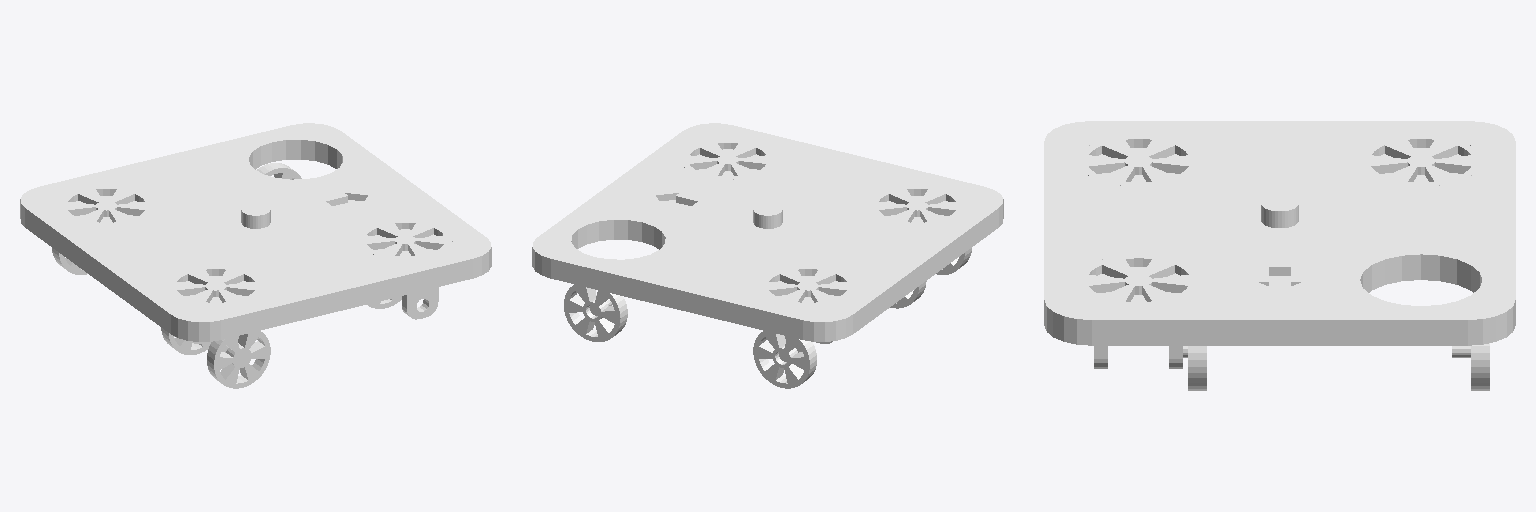
robot.urdf — robot_ehang_2:
<?xml version="1.0" encoding="utf-8"?>
<!-- This URDF was automatically created by SolidWorks to URDF Exporter! Originally created by [author] ([email redacted]) 
     Commit Version: 1.5.1-0-g916b5db  Build Version: 1.5.7152.31018
     For more information, please see http://wiki.ros.org/sw_urdf_exporter -->
<robot
  name="robot_ehang_2">
  <link
    name="base_link">
    <inertial>
      <origin
        xyz="0.000740931861202631 -4.48305072513504E-18 -0.0150251748350002"
        rpy="0 0 0" />
      <mass
        value="5.7905552345472" />
      <inertia
        ixx="0.115480968122851"
        ixy="-2.87284031780095E-17"
        ixz="2.13440240516794E-05"
        iyy="0.115166752909652"
        iyz="1.01618034046436E-19"
        izz="0.229780116928925" />
    </inertial>
    <visual>
      <origin
        xyz="0 0 0"
        rpy="0 0 0" />
      <geometry>
        <mesh
          filename="package://robot_ehang_2/meshes/base_link.STL" />
      </geometry>
      <material
        name="">
        <color
          rgba="1 1 1 1" />
      </material>
    </visual>
    <collision>
      <origin
        xyz="0 0 0"
        rpy="0 0 0" />
      <geometry>
        <mesh
          filename="package://robot_ehang_2/meshes/base_link.STL" />
      </geometry>
    </collision>
  </link>
  <link
    name="turntable_lf_Link">
    <inertial>
      <origin
        xyz="2.77555756156289E-17 2.77555756156289E-17 -0.0254858770205358"
        rpy="0 0 0" />
      <mass
        value="0.444639349653019" />
      <inertia
        ixx="0.00073928927023106"
        ixy="7.61006163548786E-20"
        ixz="1.44058079470147E-19"
        iyy="0.000612309735948238"
        iyz="4.61906307609281E-20"
        izz="0.000935490336925797" />
    </inertial>
    <visual>
      <origin
        xyz="0 0 0"
        rpy="0 0 0" />
      <geometry>
        <mesh
          filename="package://robot_ehang_2/meshes/turntable_lf_Link.STL" />
      </geometry>
      <material
        name="">
        <color
          rgba="1 1 1 1" />
      </material>
    </visual>
    <collision>
      <origin
        xyz="0 0 0"
        rpy="0 0 0" />
      <geometry>
        <mesh
          filename="package://robot_ehang_2/meshes/turntable_lf_Link.STL" />
      </geometry>
    </collision>
  </link>
  <joint
    name="turntable_lf_Joint"
    type="continuous">
    <origin
      xyz="0.151108606892245 0.15 0"
      rpy="0 0 0" />
    <parent
      link="base_link" />
    <child
      link="turntable_lf_Link" />
    <axis
      xyz="0 0 -1" />
  </joint>
  <link
    name="lf_1_Link">
    <inertial>
      <origin
        xyz="0 -0.00151578947368425 -1.38777878078145E-17"
        rpy="0 0 0" />
      <mass
        value="0.093266031903447" />
      <inertia
        ixx="5.47649111994664E-05"
        ixy="-2.89664055852232E-22"
        ixz="-4.81832706812139E-20"
        iyy="9.87141180697017E-05"
        iyz="2.72102368573993E-21"
        izz="5.47649111994664E-05" />
    </inertial>
    <visual>
      <origin
        xyz="0 0 0"
        rpy="0 0 0" />
      <geometry>
        <mesh
          filename="package://robot_ehang_2/meshes/lf_1_Link.STL" />
      </geometry>
      <material
        name="">
        <color
          rgba="1 1 1 1" />
      </material>
    </visual>
    <collision>
      <origin
        xyz="0 0 0"
        rpy="0 0 0" />
      <geometry>
        <mesh
          filename="package://robot_ehang_2/meshes/lf_1_Link.STL" />
      </geometry>
    </collision>
  </link>
  <joint
    name="lf_1_Joint"
    type="continuous">
    <origin
      xyz="0 0.0625 -0.08"
      rpy="0 0 0" />
    <parent
      link="turntable_lf_Link" />
    <child
      link="lf_1_Link" />
    <axis
      xyz="0 -1 0" />
  </joint>
  <link
    name="lf_2_Link">
    <inertial>
      <origin
        xyz="0 0.00130346232179225 -2.08166817117217E-17"
        rpy="0 0 0" />
      <mass
        value="0.0964076245570366" />
      <inertia
        ixx="5.49986625531219E-05"
        ixy="-1.75439841024276E-21"
        ixz="4.75400126623466E-20"
        iyy="9.8871197702381E-05"
        iyz="-2.5278461227548E-21"
        izz="5.49986625531219E-05" />
    </inertial>
    <visual>
      <origin
        xyz="0 0 0"
        rpy="0 0 0" />
      <geometry>
        <mesh
          filename="package://robot_ehang_2/meshes/lf_2_Link.STL" />
      </geometry>
      <material
        name="">
        <color
          rgba="1 1 1 1" />
      </material>
    </visual>
    <collision>
      <origin
        xyz="0 0 0"
        rpy="0 0 0" />
      <geometry>
        <mesh
          filename="package://robot_ehang_2/meshes/lf_2_Link.STL" />
      </geometry>
    </collision>
  </link>
  <joint
    name="lf_2_Joint"
    type="continuous">
    <origin
      xyz="0 -0.0624999999999999 -0.08"
      rpy="0 0 0" />
    <parent
      link="turntable_lf_Link" />
    <child
      link="lf_2_Link" />
    <axis
      xyz="0 -1 0" />
  </joint>
  <link
    name="turntable_lb_Link">
    <inertial>
      <origin
        xyz="2.77555756156289E-17 2.77555756156289E-17 -0.0254858770205358"
        rpy="0 0 0" />
      <mass
        value="0.44463934965302" />
      <inertia
        ixx="0.00073928927023106"
        ixy="1.09996246982865E-19"
        ixz="1.32202795781894E-19"
        iyy="0.000612309735948238"
        iyz="4.60388236780283E-20"
        izz="0.000935490336925797" />
    </inertial>
    <visual>
      <origin
        xyz="0 0 0"
        rpy="0 0 0" />
      <geometry>
        <mesh
          filename="package://robot_ehang_2/meshes/turntable_lb_Link.STL" />
      </geometry>
      <material
        name="">
        <color
          rgba="1 1 1 1" />
      </material>
    </visual>
    <collision>
      <origin
        xyz="0 0 0"
        rpy="0 0 0" />
      <geometry>
        <mesh
          filename="package://robot_ehang_2/meshes/turntable_lb_Link.STL" />
      </geometry>
    </collision>
  </link>
  <joint
    name="turntable_lb_Joint"
    type="continuous">
    <origin
      xyz="-0.148891393107755 0.15 0"
      rpy="0 0 0" />
    <parent
      link="base_link" />
    <child
      link="turntable_lb_Link" />
    <axis
      xyz="0 0 -1" />
  </joint>
  <link
    name="lb_1_Link">
    <inertial>
      <origin
        xyz="2.77555756156289E-17 -0.00151578947368425 -1.38777878078145E-17"
        rpy="0 0 0" />
      <mass
        value="0.093266031903447" />
      <inertia
        ixx="5.47649111994664E-05"
        ixy="1.96029342537779E-21"
        ixz="-4.94471134658042E-20"
        iyy="9.87141180697016E-05"
        iyz="1.29181137444782E-21"
        izz="5.47649111994664E-05" />
    </inertial>
    <visual>
      <origin
        xyz="0 0 0"
        rpy="0 0 0" />
      <geometry>
        <mesh
          filename="package://robot_ehang_2/meshes/lb_1_Link.STL" />
      </geometry>
      <material
        name="">
        <color
          rgba="1 1 1 1" />
      </material>
    </visual>
    <collision>
      <origin
        xyz="0 0 0"
        rpy="0 0 0" />
      <geometry>
        <mesh
          filename="package://robot_ehang_2/meshes/lb_1_Link.STL" />
      </geometry>
    </collision>
  </link>
  <joint
    name="lb_1_Joint"
    type="continuous">
    <origin
      xyz="0 0.0625 -0.08"
      rpy="0 0 0" />
    <parent
      link="turntable_lb_Link" />
    <child
      link="lb_1_Link" />
    <axis
      xyz="0 -1 0" />
  </joint>
  <link
    name="lb_2_Link">
    <inertial>
      <origin
        xyz="0 0.00130346232179225 -1.38777878078145E-17"
        rpy="0 0 0" />
      <mass
        value="0.0964076245570366" />
      <inertia
        ixx="5.49986625531219E-05"
        ixy="5.30686683275713E-22"
        ixz="5.15076747464944E-20"
        iyy="9.8871197702381E-05"
        iyz="4.17065314415243E-22"
        izz="5.4998662553122E-05" />
    </inertial>
    <visual>
      <origin
        xyz="0 0 0"
        rpy="0 0 0" />
      <geometry>
        <mesh
          filename="package://robot_ehang_2/meshes/lb_2_Link.STL" />
      </geometry>
      <material
        name="">
        <color
          rgba="1 1 1 1" />
      </material>
    </visual>
    <collision>
      <origin
        xyz="0 0 0"
        rpy="0 0 0" />
      <geometry>
        <mesh
          filename="package://robot_ehang_2/meshes/lb_2_Link.STL" />
      </geometry>
    </collision>
  </link>
  <joint
    name="lb_2_Joint"
    type="continuous">
    <origin
      xyz="0 -0.0625 -0.08"
      rpy="0 0 0" />
    <parent
      link="turntable_lb_Link" />
    <child
      link="lb_2_Link" />
    <axis
      xyz="0 -1 0" />
  </joint>
  <link
    name="turntable_rf_Link">
    <inertial>
      <origin
        xyz="0 2.77555756156289E-17 -0.0254858770205358"
        rpy="0 0 0" />
      <mass
        value="0.44463934965302" />
      <inertia
        ixx="0.00073928927023106"
        ixy="1.11735717249125E-19"
        ixz="1.34473512808538E-19"
        iyy="0.000612309735948238"
        iyz="1.88296083514115E-19"
        izz="0.000935490336925797" />
    </inertial>
    <visual>
      <origin
        xyz="0 0 0"
        rpy="0 0 0" />
      <geometry>
        <mesh
          filename="package://robot_ehang_2/meshes/turntable_rf_Link.STL" />
      </geometry>
      <material
        name="">
        <color
          rgba="1 1 1 1" />
      </material>
    </visual>
    <collision>
      <origin
        xyz="0 0 0"
        rpy="0 0 0" />
      <geometry>
        <mesh
          filename="package://robot_ehang_2/meshes/turntable_rf_Link.STL" />
      </geometry>
    </collision>
  </link>
  <joint
    name="turntable_rf_Joint"
    type="continuous">
    <origin
      xyz="0.151108606892245 -0.15 0"
      rpy="0 0 0" />
    <parent
      link="base_link" />
    <child
      link="turntable_rf_Link" />
    <axis
      xyz="0 0 -1" />
  </joint>
  <link
    name="rf_1_Link">
    <inertial>
      <origin
        xyz="2.77555756156289E-17 -0.00151578947368421 -1.38777878078145E-17"
        rpy="0 0 0" />
      <mass
        value="0.0932660319034468" />
      <inertia
        ixx="5.47649111994663E-05"
        ixy="-1.10467205265451E-21"
        ixz="-4.88036561406287E-20"
        iyy="9.87141180697015E-05"
        iyz="1.79605291045443E-21"
        izz="5.47649111994663E-05" />
    </inertial>
    <visual>
      <origin
        xyz="0 0 0"
        rpy="0 0 0" />
      <geometry>
        <mesh
          filename="package://robot_ehang_2/meshes/rf_1_Link.STL" />
      </geometry>
      <material
        name="">
        <color
          rgba="1 1 1 1" />
      </material>
    </visual>
    <collision>
      <origin
        xyz="0 0 0"
        rpy="0 0 0" />
      <geometry>
        <mesh
          filename="package://robot_ehang_2/meshes/rf_1_Link.STL" />
      </geometry>
    </collision>
  </link>
  <joint
    name="rf_1_Joint"
    type="continuous">
    <origin
      xyz="0 0.0625 -0.08"
      rpy="0 0 0" />
    <parent
      link="turntable_rf_Link" />
    <child
      link="rf_1_Link" />
    <axis
      xyz="0 -1 0" />
  </joint>
  <link
    name="rf_2_Link">
    <inertial>
      <origin
        xyz="0 0.00130346232179226 -1.38777878078145E-17"
        rpy="0 0 0" />
      <mass
        value="0.0964076245570367" />
      <inertia
        ixx="5.4998662553122E-05"
        ixy="-3.23771328108907E-21"
        ixz="4.63221143029695E-20"
        iyy="9.88711977023811E-05"
        iyz="-2.15830121824928E-21"
        izz="5.4998662553122E-05" />
    </inertial>
    <visual>
      <origin
        xyz="0 0 0"
        rpy="0 0 0" />
      <geometry>
        <mesh
          filename="package://robot_ehang_2/meshes/rf_2_Link.STL" />
      </geometry>
      <material
        name="">
        <color
          rgba="1 1 1 1" />
      </material>
    </visual>
    <collision>
      <origin
        xyz="0 0 0"
        rpy="0 0 0" />
      <geometry>
        <mesh
          filename="package://robot_ehang_2/meshes/rf_2_Link.STL" />
      </geometry>
    </collision>
  </link>
  <joint
    name="rf_2_Joint"
    type="continuous">
    <origin
      xyz="0 -0.0624999999999999 -0.08"
      rpy="0 0 0" />
    <parent
      link="turntable_rf_Link" />
    <child
      link="rf_2_Link" />
    <axis
      xyz="0 -1 0" />
  </joint>
  <link
    name="turntable_rb_Link">
    <inertial>
      <origin
        xyz="5.55111512312578E-17 5.55111512312578E-17 -0.0254858770205358"
        rpy="0 0 0" />
      <mass
        value="0.444639349653019" />
      <inertia
        ixx="0.00073928927023106"
        ixy="6.07270354641631E-20"
        ixz="1.63533282456069E-19"
        iyy="0.000612309735948238"
        iyz="2.11314562707794E-19"
        izz="0.000935490336925797" />
    </inertial>
    <visual>
      <origin
        xyz="0 0 0"
        rpy="0 0 0" />
      <geometry>
        <mesh
          filename="package://robot_ehang_2/meshes/turntable_rb_Link.STL" />
      </geometry>
      <material
        name="">
        <color
          rgba="1 1 1 1" />
      </material>
    </visual>
    <collision>
      <origin
        xyz="0 0 0"
        rpy="0 0 0" />
      <geometry>
        <mesh
          filename="package://robot_ehang_2/meshes/turntable_rb_Link.STL" />
      </geometry>
    </collision>
  </link>
  <joint
    name="turntable_rb_Joint"
    type="continuous">
    <origin
      xyz="-0.148891393107755 -0.15 0"
      rpy="0 0 0" />
    <parent
      link="base_link" />
    <child
      link="turntable_rb_Link" />
    <axis
      xyz="0 0 -1" />
  </joint>
  <link
    name="rb_1_Link">
    <inertial>
      <origin
        xyz="2.77555756156289E-17 -0.00151578947368422 -1.38777878078145E-17"
        rpy="0 0 0" />
      <mass
        value="0.0932660319034468" />
      <inertia
        ixx="5.47649111994663E-05"
        ixy="1.78443581234318E-21"
        ixz="-4.96308367531817E-20"
        iyy="9.87141180697015E-05"
        iyz="7.03129642163336E-22"
        izz="5.47649111994663E-05" />
    </inertial>
    <visual>
      <origin
        xyz="0 0 0"
        rpy="0 0 0" />
      <geometry>
        <mesh
          filename="package://robot_ehang_2/meshes/rb_1_Link.STL" />
      </geometry>
      <material
        name="">
        <color
          rgba="1 1 1 1" />
      </material>
    </visual>
    <collision>
      <origin
        xyz="0 0 0"
        rpy="0 0 0" />
      <geometry>
        <mesh
          filename="package://robot_ehang_2/meshes/rb_1_Link.STL" />
      </geometry>
    </collision>
  </link>
  <joint
    name="rb_1_Joint"
    type="continuous">
    <origin
      xyz="0 0.0625 -0.08"
      rpy="0 0 0" />
    <parent
      link="turntable_rb_Link" />
    <child
      link="rb_1_Link" />
    <axis
      xyz="0 -1 0" />
  </joint>
  <link
    name="rb_2_Link">
    <inertial>
      <origin
        xyz="-2.77555756156289E-17 0.00130346232179226 -2.08166817117217E-17"
        rpy="0 0 0" />
      <mass
        value="0.0964076245570368" />
      <inertia
        ixx="5.4998662553122E-05"
        ixy="3.15175946727271E-22"
        ixz="5.13239720695012E-20"
        iyy="9.88711977023811E-05"
        iyz="5.98137080660663E-23"
        izz="5.4998662553122E-05" />
    </inertial>
    <visual>
      <origin
        xyz="0 0 0"
        rpy="0 0 0" />
      <geometry>
        <mesh
          filename="package://robot_ehang_2/meshes/rb_2_Link.STL" />
      </geometry>
      <material
        name="">
        <color
          rgba="1 1 1 1" />
      </material>
    </visual>
    <collision>
      <origin
        xyz="0 0 0"
        rpy="0 0 0" />
      <geometry>
        <mesh
          filename="package://robot_ehang_2/meshes/rb_2_Link.STL" />
      </geometry>
    </collision>
  </link>
  <joint
    name="rb_2_Joint"
    type="continuous">
    <origin
      xyz="0 -0.0625 -0.08"
      rpy="0 0 0" />
    <parent
      link="turntable_rb_Link" />
    <child
      link="rb_2_Link" />
    <axis
      xyz="0 -1 0" />
  </joint>
  <link
    name="body_Link">
    <inertial>
      <origin
        xyz="-1.93246810444315E-34 -1.63232502450634E-18 -0.025"
        rpy="0 0 0" />
      <mass
        value="0.0628318530717959" />
      <inertia
        ixx="1.93731546971371E-05"
        ixy="0"
        ixz="-6.0710276002152E-38"
        iyy="1.93731546971371E-05"
        iyz="-3.91726475263398E-38"
        izz="1.25663706143592E-05" />
    </inertial>
    <visual>
      <origin
        xyz="0 0 0"
        rpy="0 0 0" />
      <geometry>
        <mesh
          filename="package://robot_ehang_2/meshes/body_Link.STL" />
      </geometry>
      <material
        name="">
        <color
          rgba="1 1 1 1" />
      </material>
    </visual>
    <collision>
      <origin
        xyz="0 0 0"
        rpy="0 0 0" />
      <geometry>
        <mesh
          filename="package://robot_ehang_2/meshes/body_Link.STL" />
      </geometry>
    </collision>
  </link>
  <joint
    name="body_Joint"
    type="fixed">
    <origin
      xyz="0.00110860689224476 0 0.02"
      rpy="0 0 0" />
    <parent
      link="base_link" />
    <child
      link="body_Link" />
    <axis
      xyz="0 0 0" />
  </joint>

  <link name="dummy">
  </link>
  <joint name="dummy_joint" type="fixed">
    <parent link="dummy"/>
    <child link="base_link"/>
  </joint>

</robot>

--- What the picture shows (computed from the rendered views, not written in the file) ---
3 views of the same robot in one strip: view 1: azimuth 30°, elevation 25°; view 2: azimuth 150°, elevation 25°; view 3: azimuth 270°, elevation 25° (orthographic).
Robot: robot_ehang_2 — 15 links, 14 joints (12 continuous, 2 fixed); root link dummy; default pose: all joints at 0.
Visible links, largest first — view 1: base_link, turntable_rf_Link, turntable_rb_Link, turntable_lb_Link, rb_2_Link, body_Link, rb_1_Link; view 2: base_link, turntable_lb_Link, turntable_rb_Link, turntable_rf_Link, lf_1_Link, lb_1_Link, body_Link; view 3: base_link, turntable_rf_Link, turntable_rb_Link, turntable_lb_Link, lf_1_Link, body_Link, rf_1_Link.
Boxes of the visible links, x1,y1,x2,y2 form: base_link: [20, 123, 491, 341]; turntable_rf_Link: [358, 220, 452, 319]; turntable_rb_Link: [169, 266, 262, 352]; turntable_lb_Link: [59, 186, 153, 225]; rb_2_Link: [207, 331, 270, 388]; body_Link: [241, 203, 270, 228]; rb_1_Link: [161, 328, 210, 354]; base_link: [532, 123, 1003, 341]; turntable_lb_Link: [761, 266, 854, 352]; turntable_rb_Link: [870, 186, 964, 225]; turntable_rf_Link: [681, 140, 774, 179]; lf_1_Link: [564, 284, 627, 341]; lb_1_Link: [753, 331, 816, 388]; body_Link: [753, 203, 782, 228]; base_link: [1044, 121, 1515, 345]; turntable_rf_Link: [1078, 254, 1199, 368]; turntable_rb_Link: [1078, 135, 1199, 186]; turntable_lb_Link: [1360, 135, 1481, 186]; lf_1_Link: [1452, 343, 1489, 390]; body_Link: [1261, 196, 1298, 227]; rf_1_Link: [1183, 346, 1206, 390].
Bounding box of the posed robot: 0.5 × 0.5 × 0.1448 m (x, y, z).
10 mesh visuals loaded from 14 distinct referenced files (10 binary STL); not drawn: 4 (reference not matched to a file when rendering).